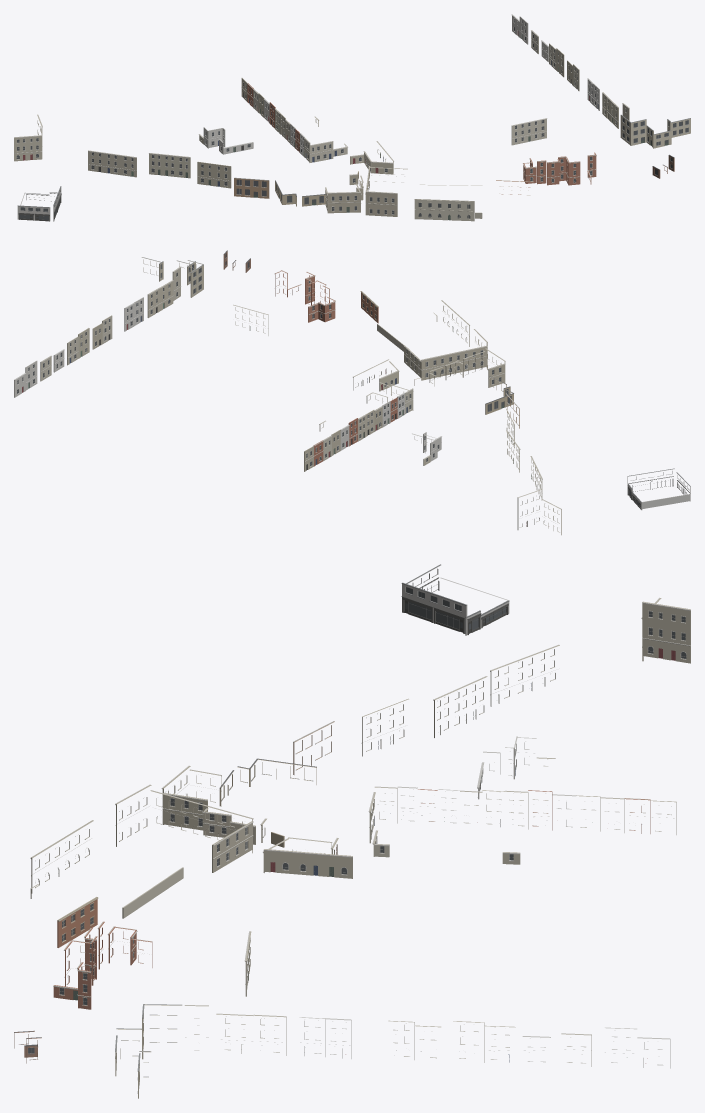
3 renders of one model, top to bottom at view 1: azimuth 30°, elevation 25°; view 2: azimuth 150°, elevation 25°; view 3: azimuth 270°, elevation 25°, orthographic. The views are drawn at different scales.
Parts seen in each view (by area): view 1: f:way/191209734, f:way/882173876, f:way/13988443, f:way/166374894, f:way/14019614, f:way/13988679, f:way/166374911, f:way/166374893, f:way/204395814, f:way/179837548, f:way/161580450, f:way/289755907 (+4 smaller); view 2: f:way/13988679, f:way/191209734, f:way/179837548, f:way/882173876, f:way/14019614, f:way/14019593, f:way/1165393321; view 3: f:way/179837548, f:way/204395814, f:way/14019614, f:way/1165393321, f:way/191209734, f:way/13988679, f:way/13988443, f:way/13988468.
Part boxes in pixels (<box>): f:way/191209734: <box>522,152,596,185</box>; f:way/882173876: <box>620,114,690,148</box>; f:way/13988443: <box>414,184,482,221</box>; f:way/166374894: <box>88,150,136,177</box>; f:way/14019614: <box>325,174,363,213</box>; f:way/13988679: <box>365,166,407,216</box>; f:way/166374911: <box>149,153,190,178</box>; f:way/166374893: <box>197,161,231,188</box>; f:way/204395814: <box>14,114,42,161</box>; f:way/179837548: <box>17,186,61,221</box>; f:way/161580450: <box>511,118,547,145</box>; f:way/289755907: <box>234,177,269,198</box>; f:way/13988679: <box>404,329,487,380</box>; f:way/191209734: <box>274,270,335,322</box>; f:way/179837548: <box>627,468,690,510</box>; f:way/882173876: <box>141,257,203,297</box>; f:way/14019614: <box>428,348,505,387</box>; f:way/14019593: <box>414,376,513,414</box>; f:way/1165393321: <box>353,359,399,395</box>; f:way/179837548: <box>401,564,509,635</box>; f:way/204395814: <box>641,597,690,663</box>; f:way/14019614: <box>161,765,266,844</box>; f:way/1165393321: <box>263,837,352,878</box>; f:way/191209734: <box>53,921,152,1009</box>; f:way/13988679: <box>115,784,253,872</box>; f:way/13988443: <box>30,820,183,918</box>; f:way/13988468: <box>57,897,98,947</box>.
Bounding box in the file's own units: 244 × 13.57 × 135.
